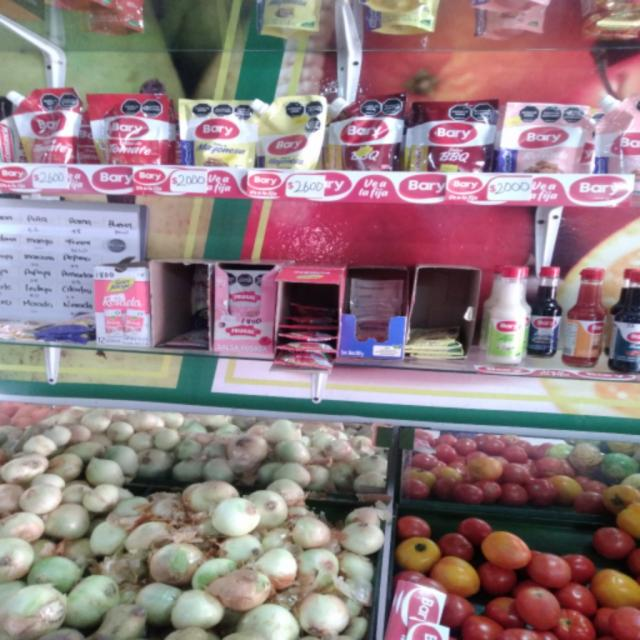BBQ: (407, 101, 499, 175), (330, 96, 405, 168)
Mayonesa: (252, 99, 328, 173), (179, 101, 257, 165)
Precio: (485, 179, 534, 203), (172, 171, 210, 197), (287, 177, 327, 199), (32, 169, 69, 190)
Rosada: (507, 105, 587, 175), (598, 94, 640, 173)
Tomate: (88, 95, 177, 168), (9, 91, 86, 165)
